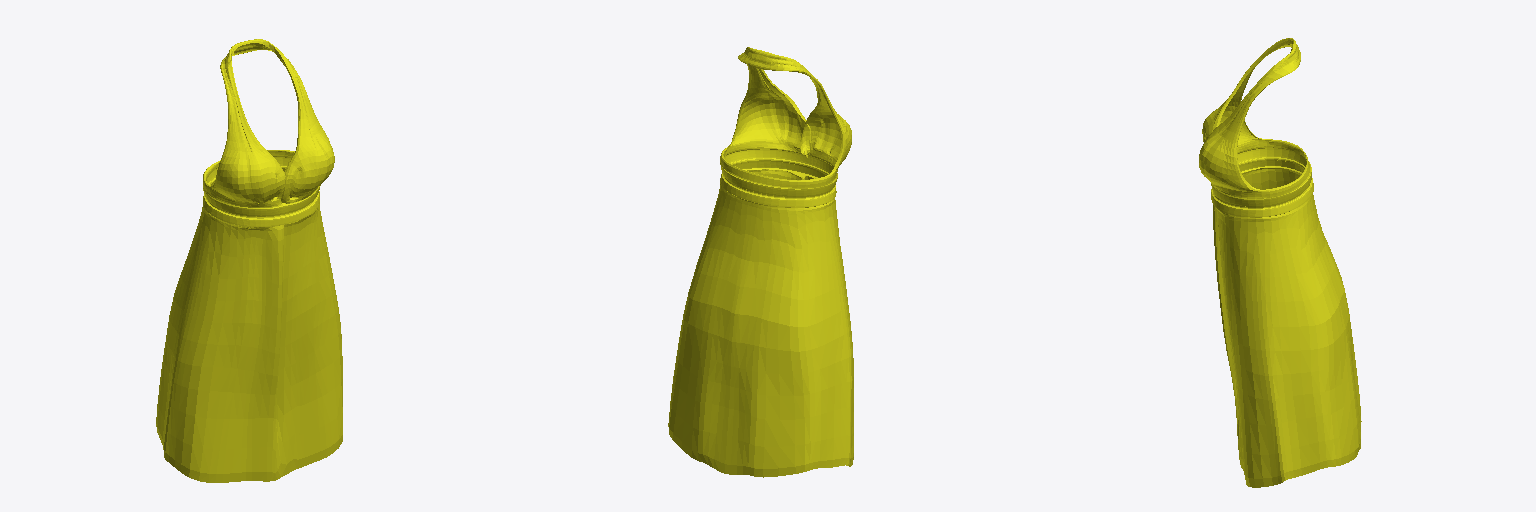
The model's file is changqun1.obj.
3 views of the same model, side by side, from view 1: azimuth 30°, elevation 25°; view 2: azimuth 150°, elevation 25°; view 3: azimuth 270°, elevation 25° (orthographic).
Visible parts, largest first — view 1: changqun; view 2: changqun; view 3: changqun.
Part boxes in pixels (bbox=[...]): changqun: bbox=[156, 39, 342, 482]; changqun: bbox=[668, 47, 853, 477]; changqun: bbox=[1199, 38, 1361, 487].
Size of the model in its own units: 2.76 by 6.4 by 2.24.